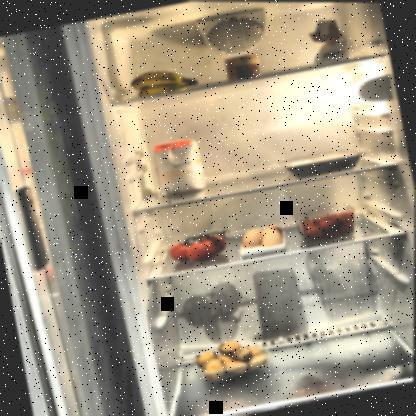banana: (127, 59, 202, 101)
corn: (222, 49, 266, 84)
eggs: (239, 220, 289, 254)
potato: (191, 333, 270, 382)
strawberries: (299, 205, 362, 246)
tomato: (168, 227, 230, 267)
